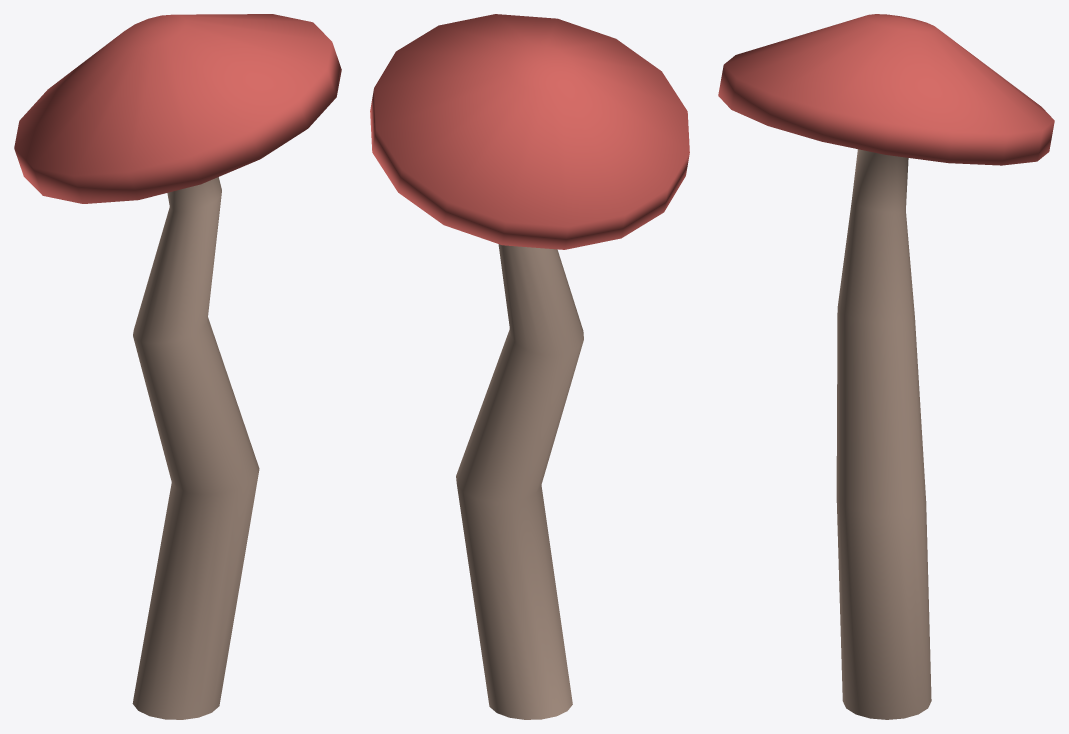
File: mushrooms01.fbx
The picture shows the model from 3 angles, left to right: view 1: azimuth 30°, elevation 25°; view 2: azimuth 150°, elevation 25°; view 3: azimuth 270°, elevation 25°; orthographic projection. The views are drawn at different scales.
Visible parts, largest first — view 1: Cylinder.001; view 2: Cylinder.001; view 3: Cylinder.001.
Part boxes in pixels (bbox=[...]): Cylinder.001: bbox=[14, 14, 341, 719]; Cylinder.001: bbox=[370, 14, 689, 719]; Cylinder.001: bbox=[718, 14, 1054, 719].
Size of the model in its own units: 54.41 by 122 by 54.93.
